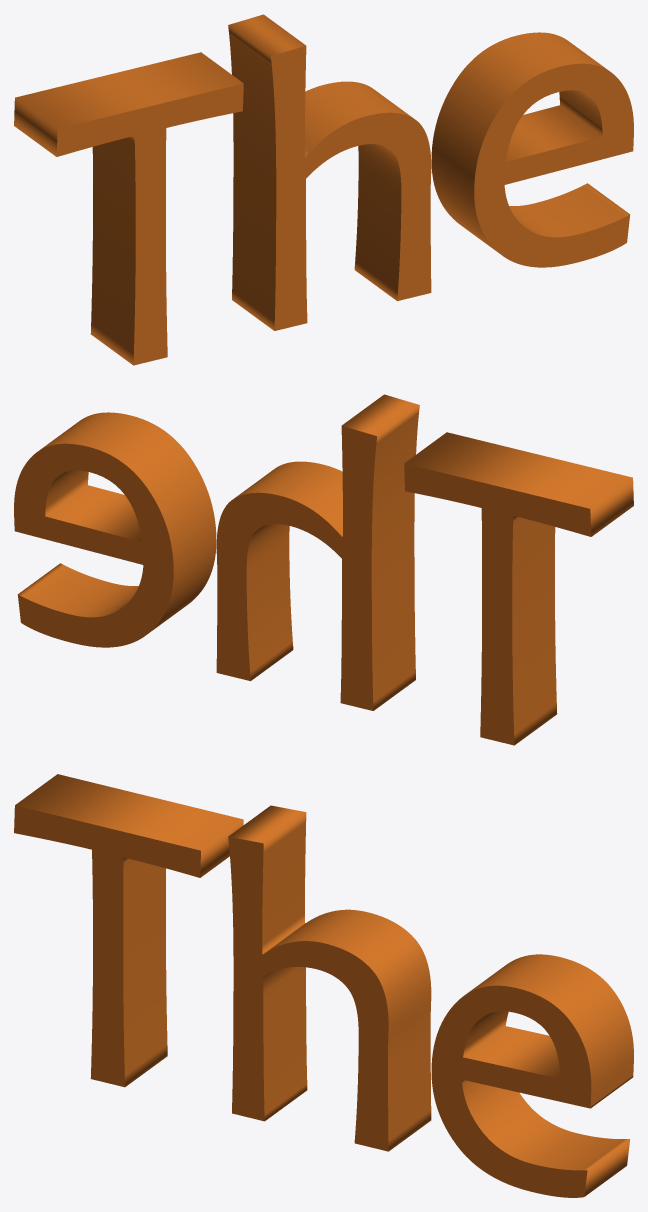
Rendered from The.fbx.
The picture shows the model from 3 angles, top to bottom: view 1: azimuth 30°, elevation 25°; view 2: azimuth 150°, elevation 25°; view 3: azimuth 330°, elevation 25°; orthographic projection.
Parts seen in each view (by area): view 1: Text; view 2: Text; view 3: Text.
Boxes of the visible parts, bbox=[...] form: Text: bbox=[14, 14, 633, 365]; Text: bbox=[14, 394, 633, 745]; Text: bbox=[14, 774, 633, 1197].
Size of the model in its own units: 122 by 57.05 by 15.6.
